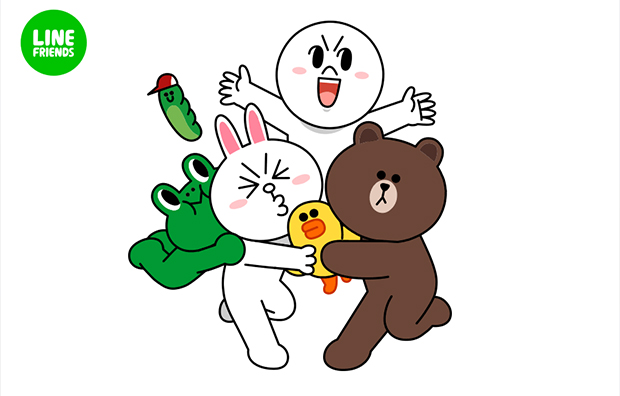line_brown: (319, 114, 456, 245)
